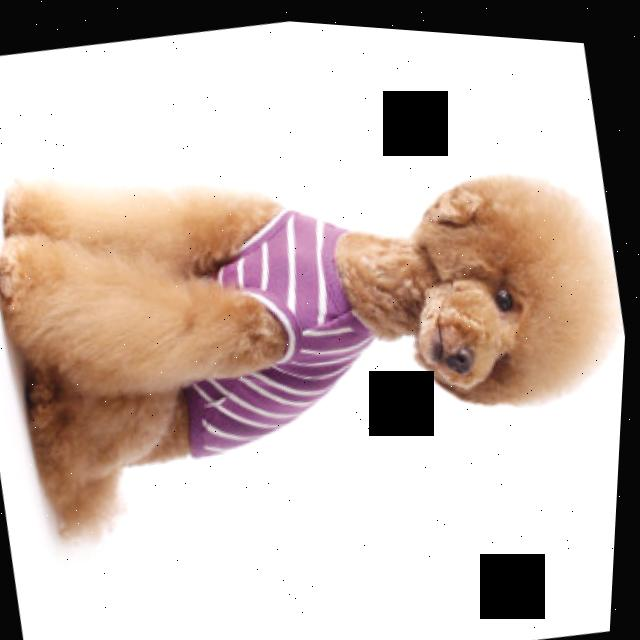cloth: (188, 207, 375, 450)
